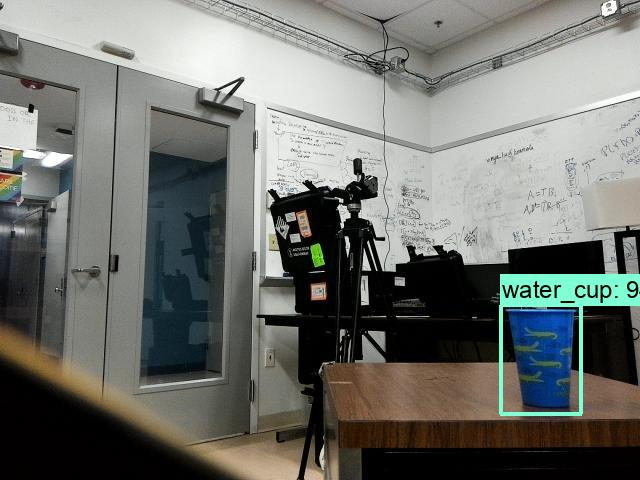water_cup: (501, 305, 578, 412)
